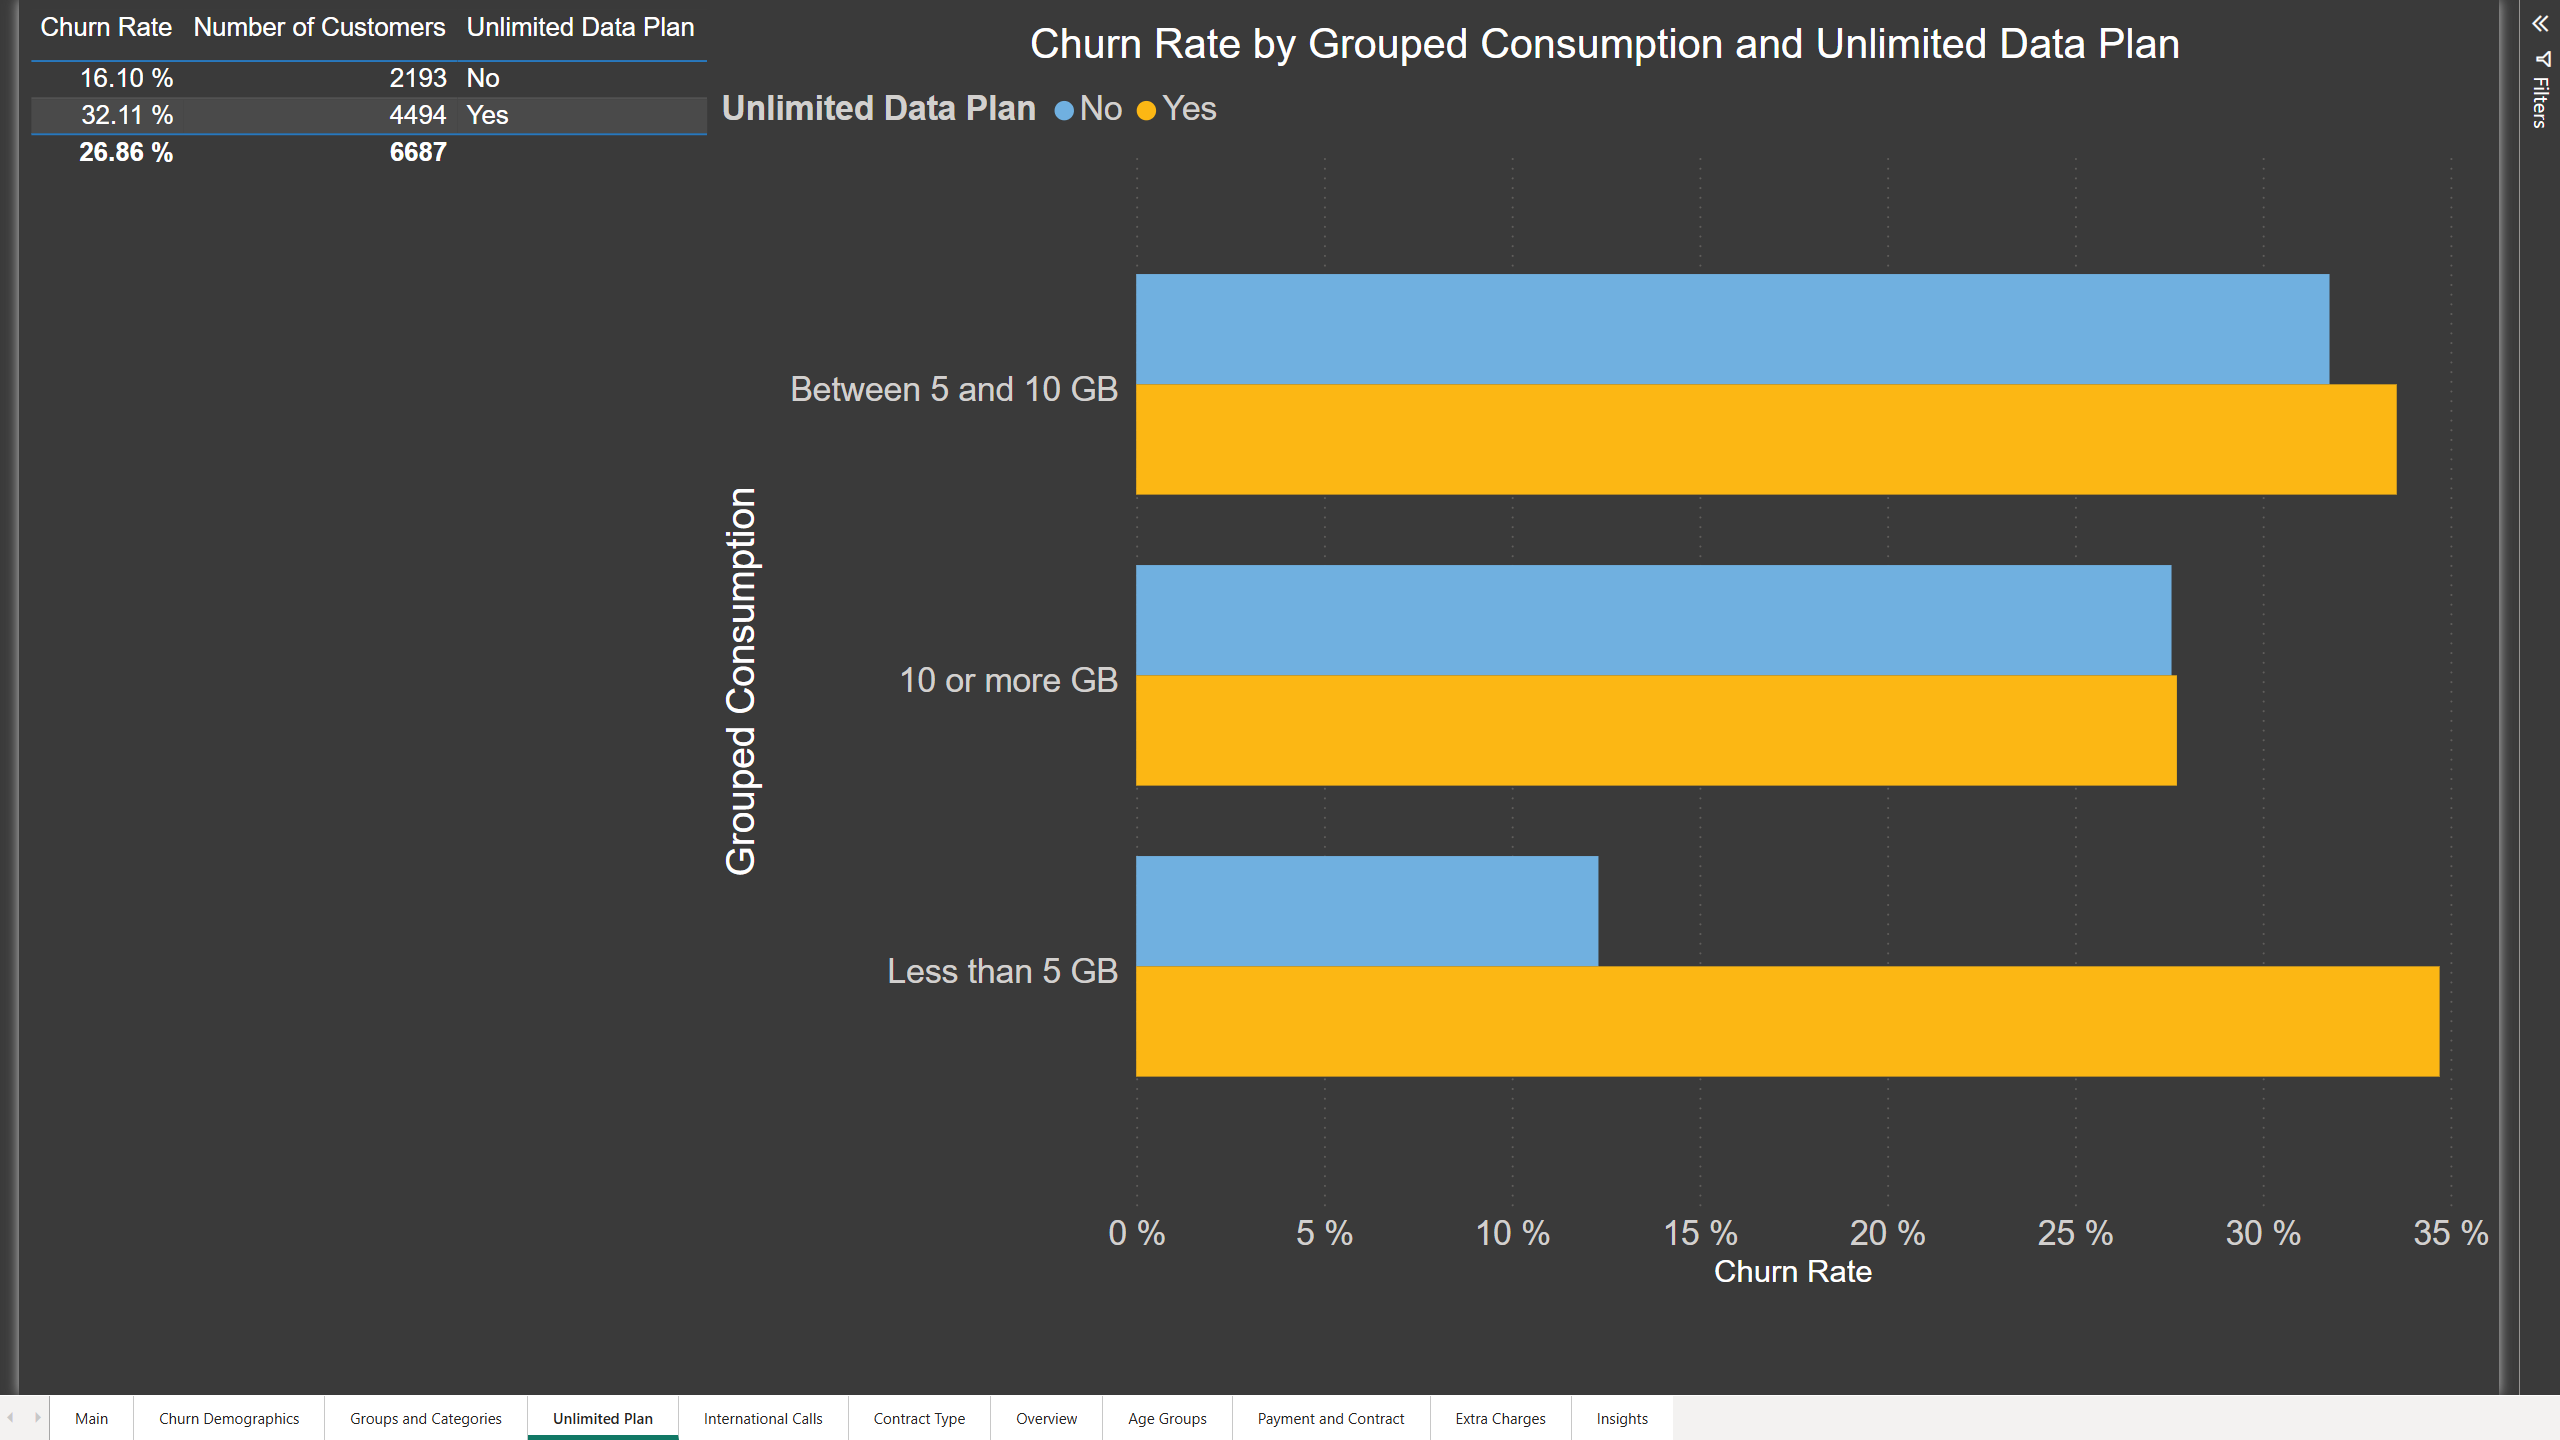

Layout of this report page (visuals, bound fields, positions):
{"tool":"powerbi","page":{"name":"Unlimited Plan","canvas":[1280,720],"ordinal":3},"visuals":[{"type":"tableEx","fields":{"Values":["Databel - Data.Churn Rate","Databel - Data.Number of Costumers","Databel - Data.Unlimited Data Plan"]},"box":[0,0,380.6,133.6],"z":0},{"type":"clusteredBarChart","fields":{"Category":["Databel - Data.Grouped Consumption"],"Y":["Databel - Data.Churn Rate"],"Series":["Databel - Data.Unlimited Data Plan"]},"box":[357.3,10.9,922.7,658.6],"z":1000}]}

Visuals, with their boxes on the page's 1280x720 design canvas (x1, y1, x2, y2). These are canvas units, not pixel positions in the 2560x1440 screenshot, which may show the page scaled, cropped or inside an application window:
tableEx - Databel - Data.Churn Rate x Databel - Data.Number of Costumers: 0:0:381:134
clusteredBarChart - Databel - Data.Grouped Consumption x Databel - Data.Churn Rate: 357:11:1280:670
